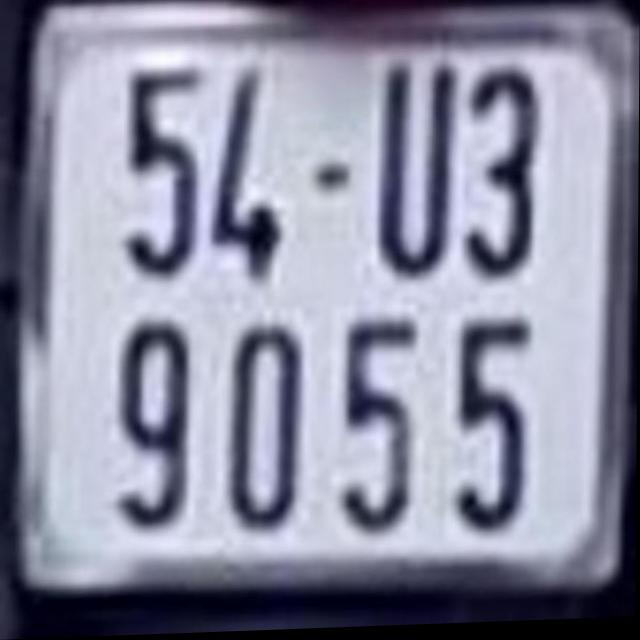0: (231, 317, 299, 535)
3: (466, 67, 536, 274)
4: (214, 59, 284, 284)
5: (453, 321, 537, 539), (121, 61, 196, 284), (343, 310, 417, 529)
9: (115, 313, 193, 525)
U: (381, 53, 452, 279)
